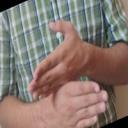hand: (27, 21, 90, 98), (46, 80, 109, 128)
